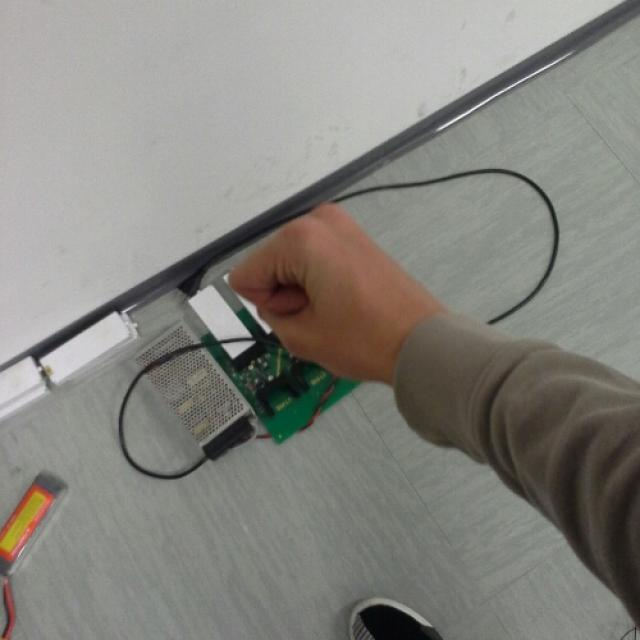rock: (224, 199, 403, 375)
